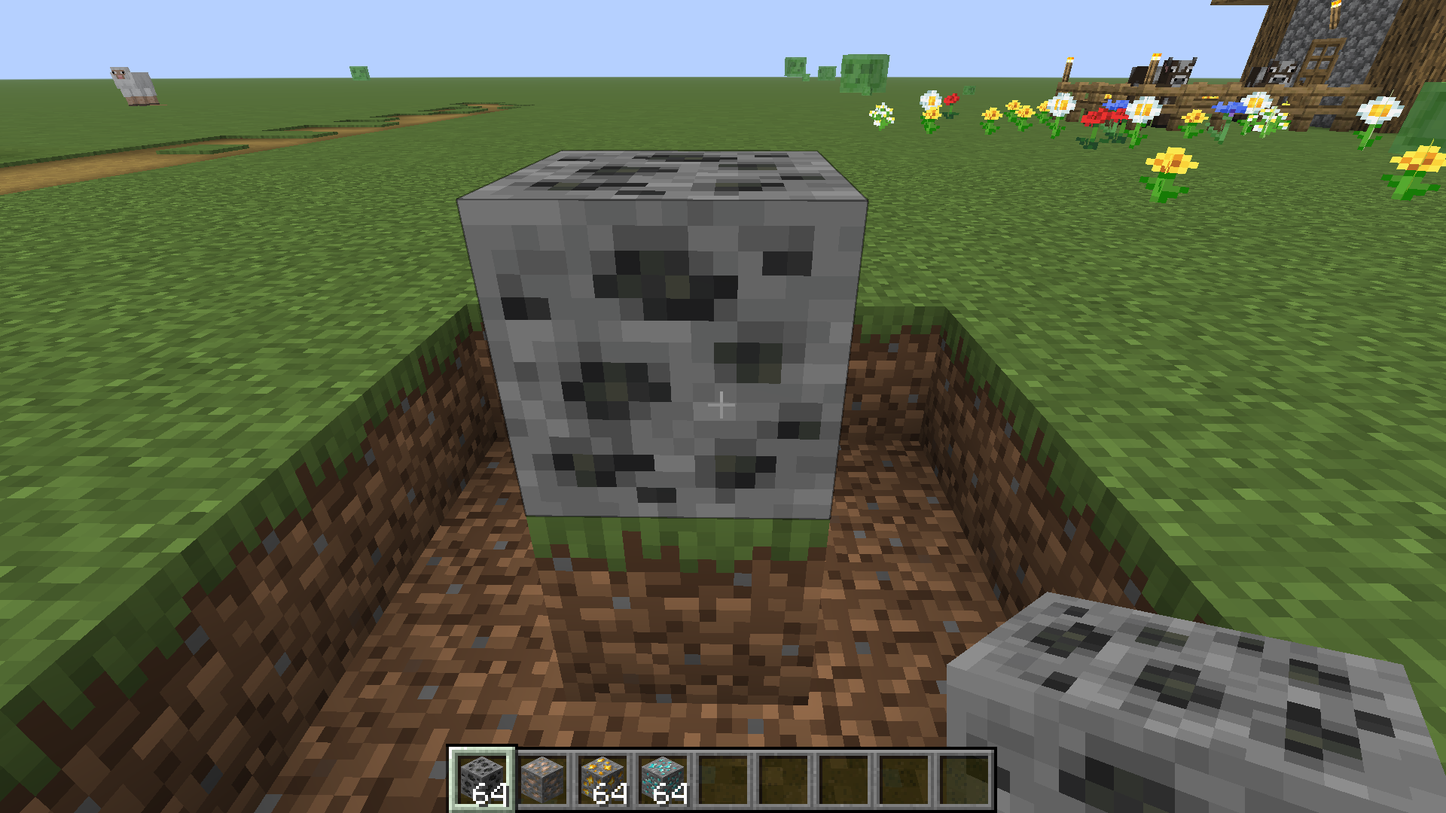Sheep: (108, 59, 175, 112)
coal ore: (459, 148, 868, 512)
cow: (1133, 54, 1200, 89), (1250, 58, 1299, 88)
